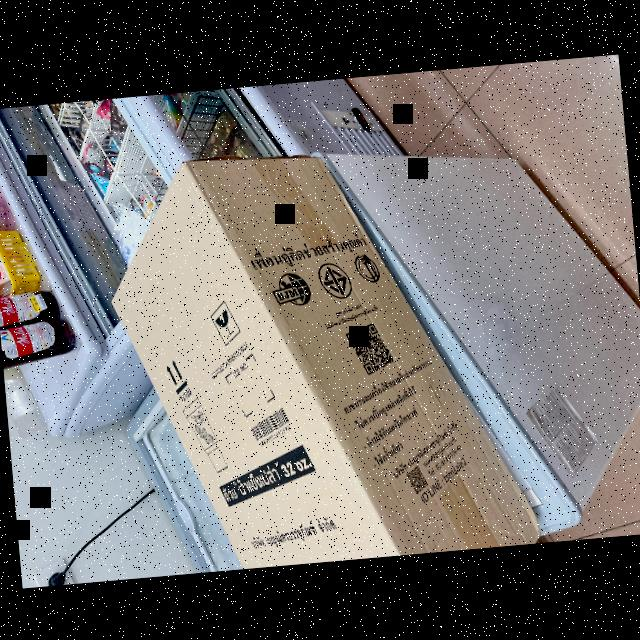cardboard_box: (98, 120, 552, 577)
